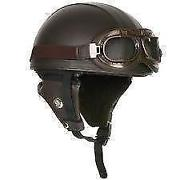with_helmet: (28, 1, 170, 134)
